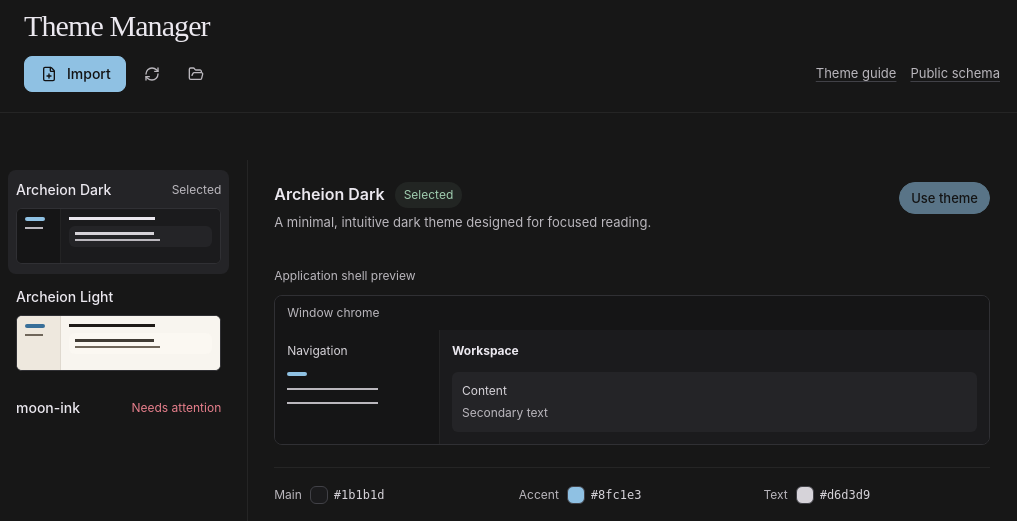
Test case: ThemeManagerSurface preview ownership › does not resolve a shell for an unavailable package
The image size is (1017, 521).
What coordinates should you click on to do the following:
click the button "moon-ink Needs attention"
I would click on:
 (119, 408)
Its box is [8,384,229,432].
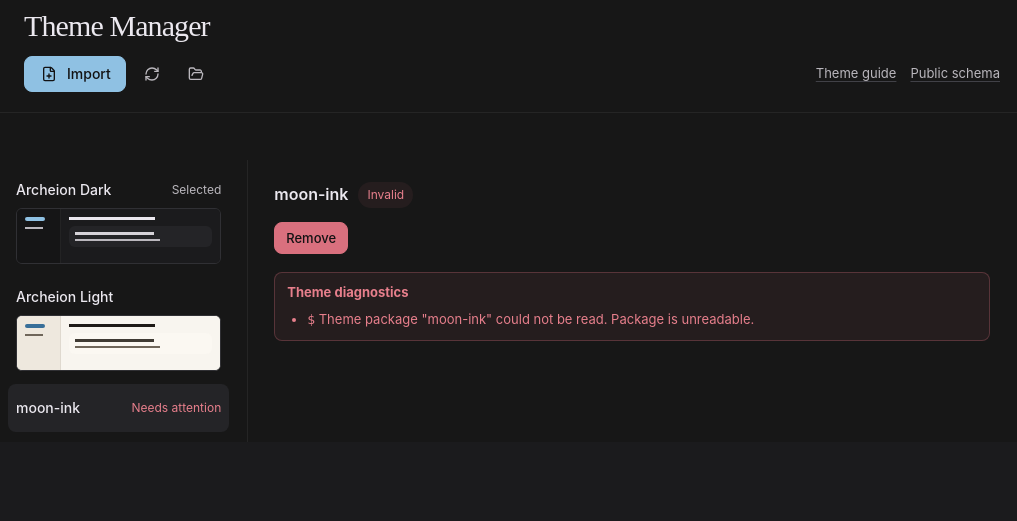
Check: the message with class "theme-details__diagnostics" is shown, box [274,272,990,340]
Check: the element with class "theme-shell-preview" is gone
Check: the element with class "theme-details__swatches" is gone
